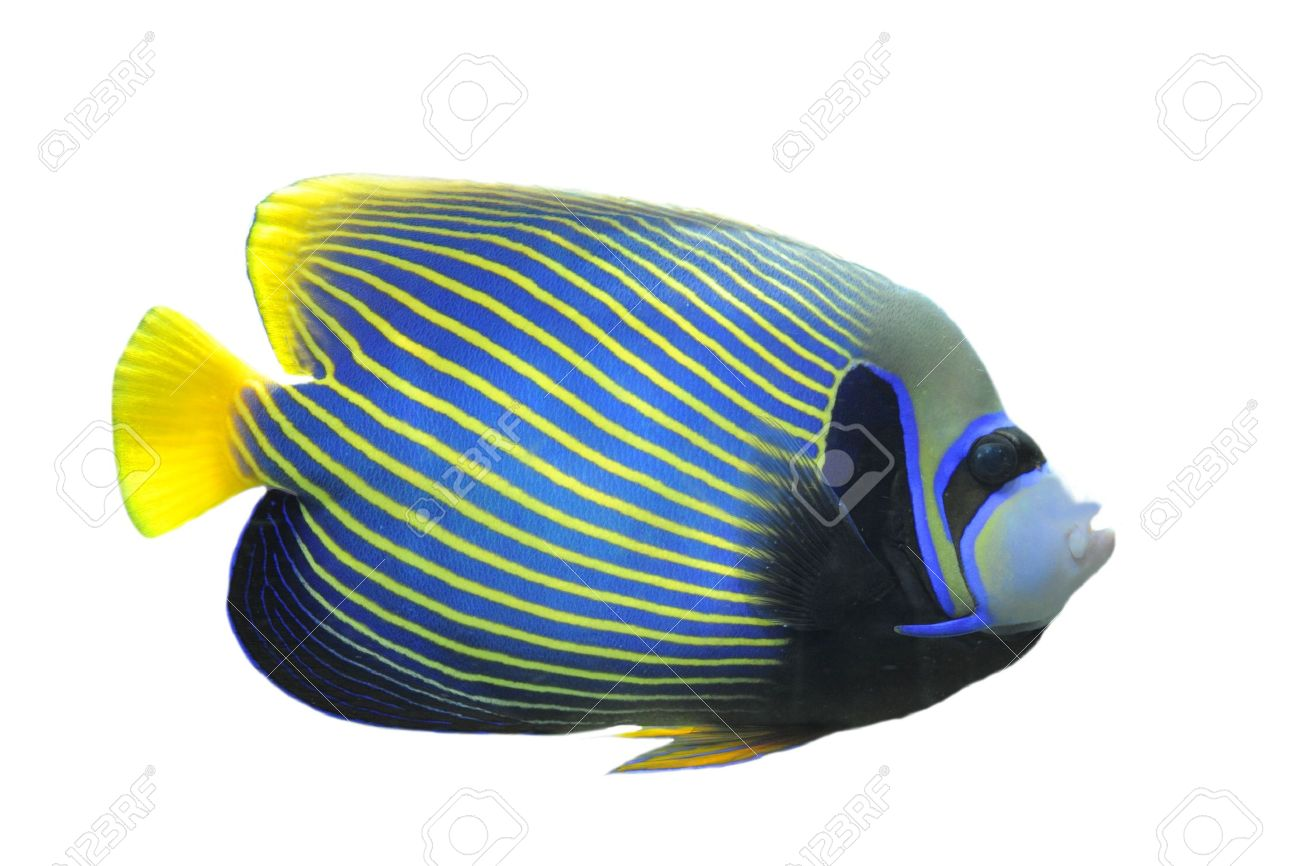Pomacanthus_imperator: (71, 90, 1148, 808)
